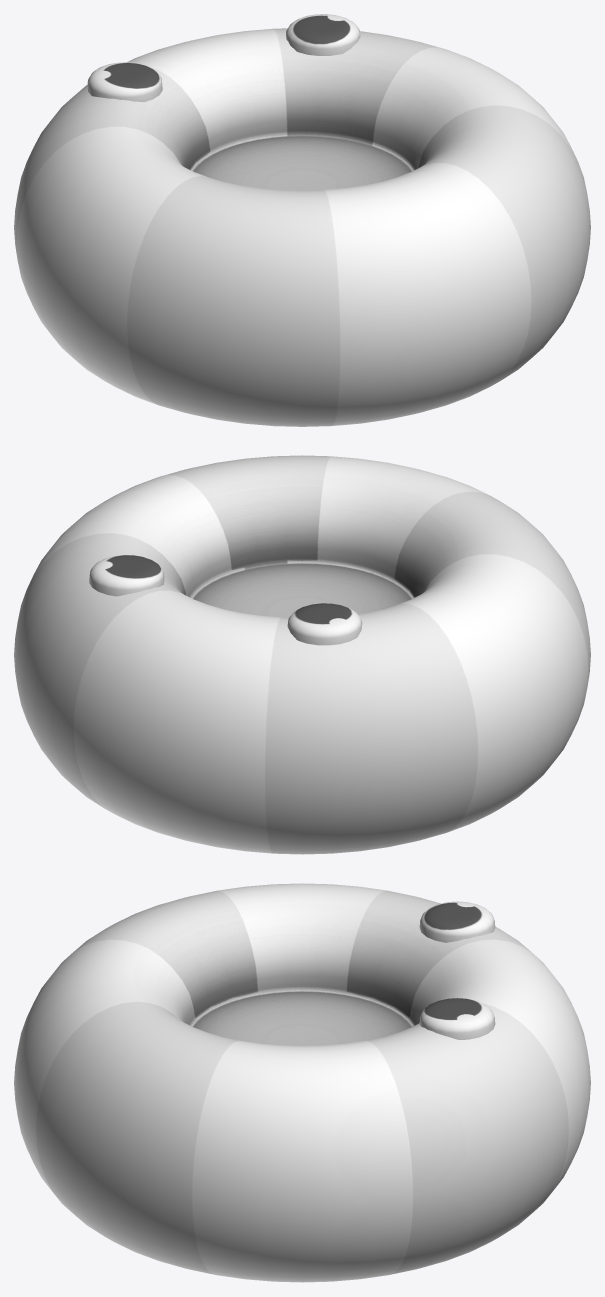
The model's file is Pin_lifebuoy.fbx.
3 views of the same model, one above another, from view 1: azimuth 30°, elevation 25°; view 2: azimuth 150°, elevation 25°; view 3: azimuth 270°, elevation 25° (orthographic).
Visible parts, largest first — view 1: Pin_lifebuoy, polySurface2; view 2: Pin_lifebuoy, polySurface2; view 3: Pin_lifebuoy, polySurface2.
Boxes of the visible parts, <box> form: Pin_lifebuoy: <box>14,28,590,426</box>; polySurface2: <box>87,14,360,102</box>; Pin_lifebuoy: <box>14,455,590,854</box>; polySurface2: <box>89,555,362,645</box>; Pin_lifebuoy: <box>14,883,590,1282</box>; polySurface2: <box>419,901,495,1039</box>.
Bounding box in the file's own units: 0.6756 × 0.3013 × 0.6756.
3 materials, 3 textured.
